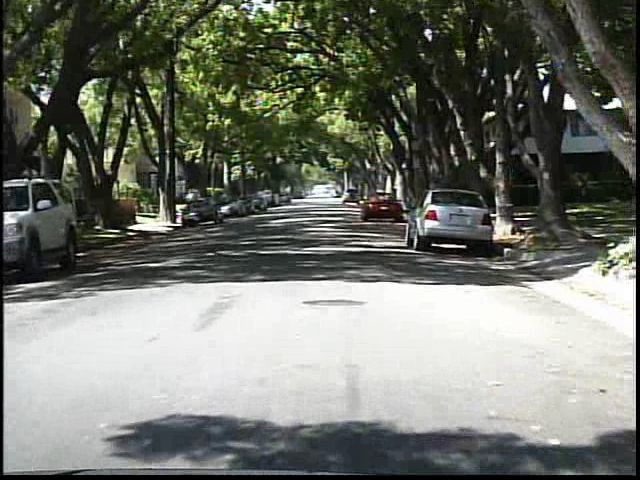person: (182, 186, 200, 218)
